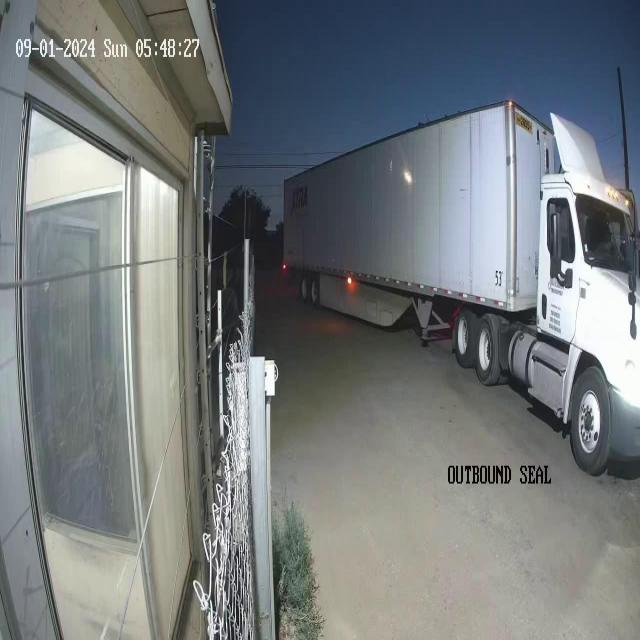TRUCK_IN: (281, 71, 639, 477)
